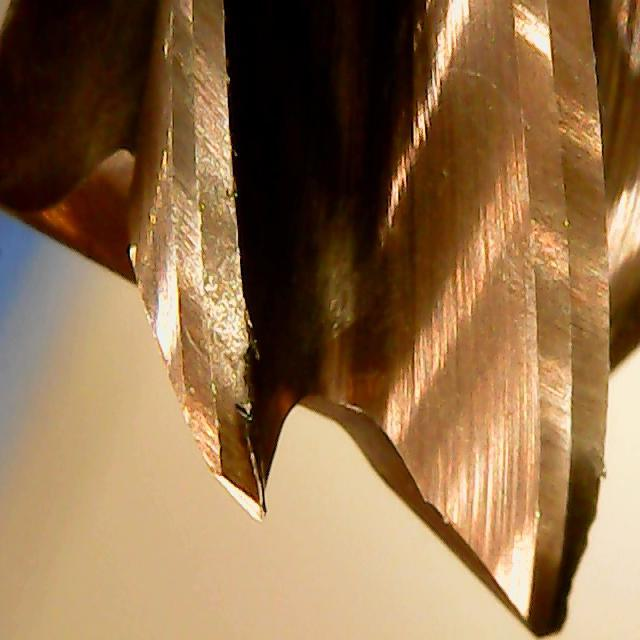Tool-wear-class-1: (145, 246, 305, 531)
